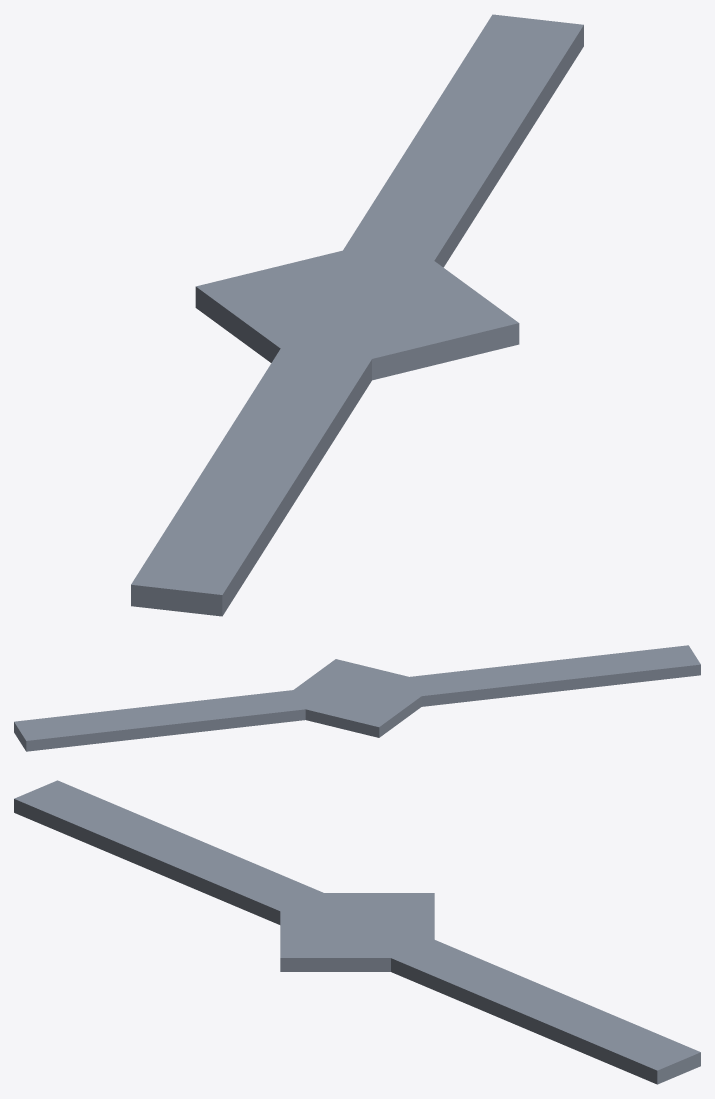
The model's file is step-1-preview-2.glb.
The picture shows the model from 3 angles, top to bottom: view 1: azimuth 30°, elevation 25°; view 2: azimuth 150°, elevation 25°; view 3: azimuth 270°, elevation 25°; orthographic projection. The views are drawn at different scales.
Parts seen in each view (by area): view 1: preview_2, preview_1, preview_5, preview_9, preview_0, preview_6; view 2: preview_2, preview_3, preview_10, preview_8, preview_6; view 3: preview_2, preview_1, preview_9, preview_7, preview_11.
Part boxes in pixels (box(x1,y1,x2,y2)): preview_2: box(131, 14, 583, 594); preview_1: box(222, 359, 371, 615); preview_5: box(372, 323, 519, 380); preview_9: box(434, 25, 583, 267); preview_0: box(131, 584, 222, 616); preview_6: box(195, 287, 280, 362); preview_2: box(14, 645, 700, 740); preview_3: box(421, 664, 700, 706); preview_10: box(26, 709, 305, 751); preview_8: box(305, 709, 379, 737); preview_6: box(379, 696, 421, 737); preview_2: box(14, 780, 700, 1070); preview_1: box(14, 799, 280, 924); preview_9: box(391, 958, 657, 1084); preview_7: box(280, 958, 390, 971); preview_11: box(657, 1052, 700, 1084).
Bounding box in the file's own units: 0.1782 × 0.004 × 0.1782.
